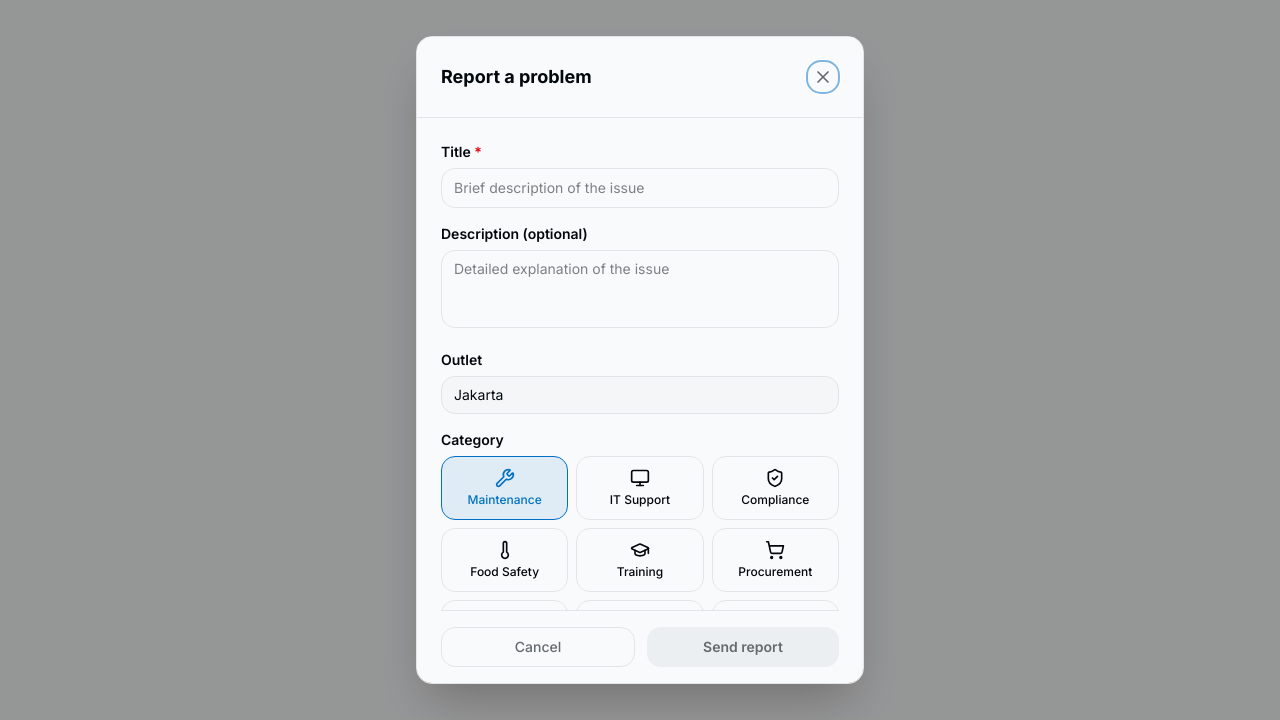
Test case: quick report mode (Todo-Pilot §20) › promises a WhatsApp update only to users who opted in
This screenshot has width=1280, height=720.
Type "Wastafel bocor" into the field labelled "Title *" at coordinates (640, 188), box 441,168 -> 839,208
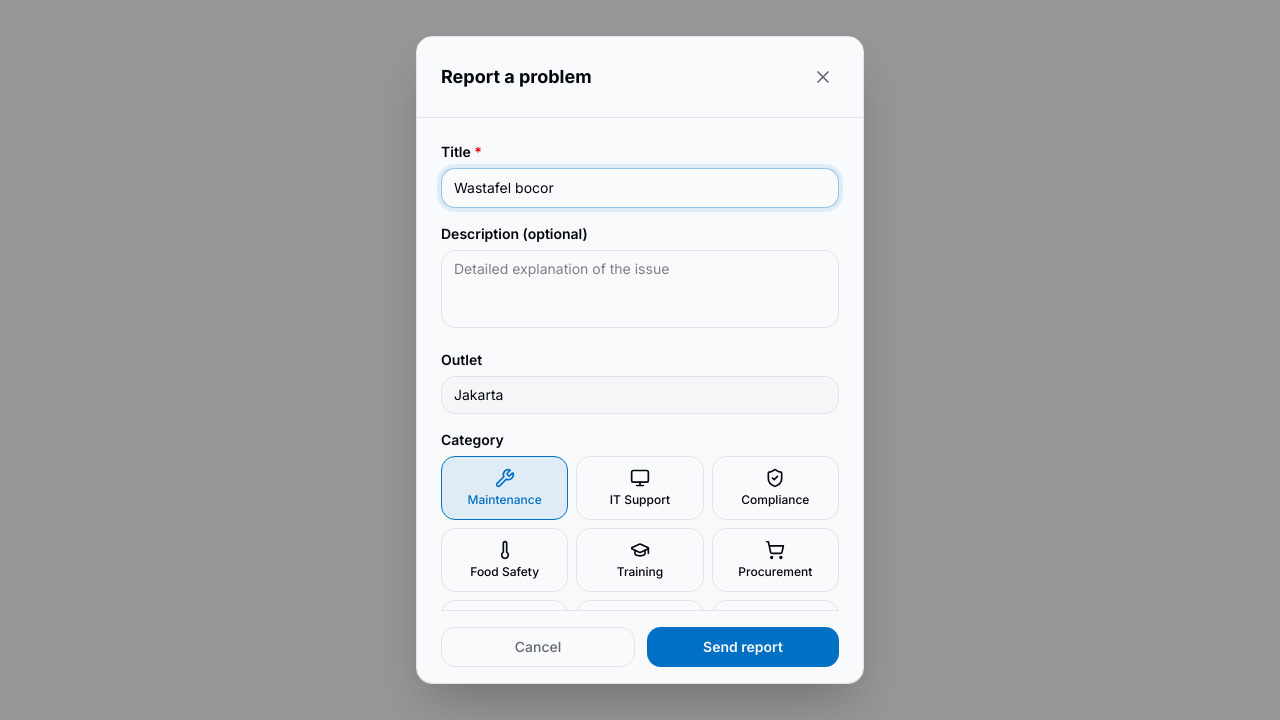
Click the button "Send report" at coordinates (743, 647), box 647,627 -> 839,667
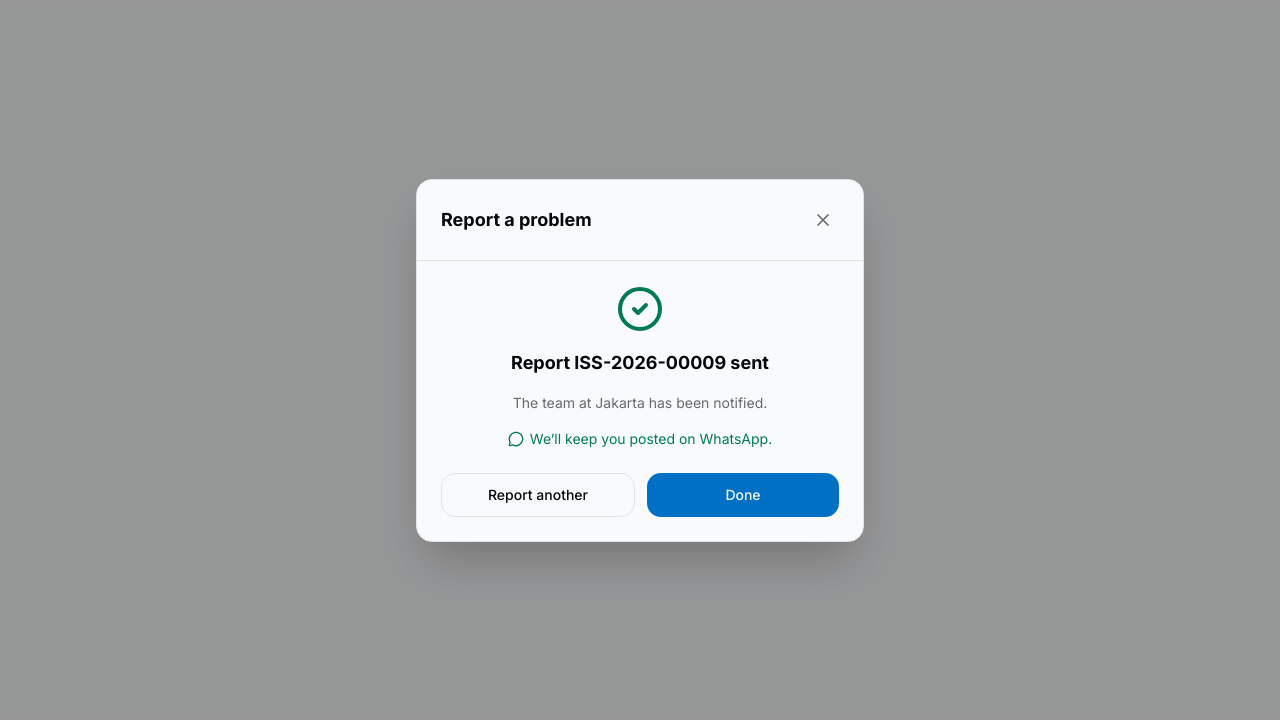
Expected: the text "We’ll keep you posted on WhatsApp." is shown, 508,430 -> 772,446
